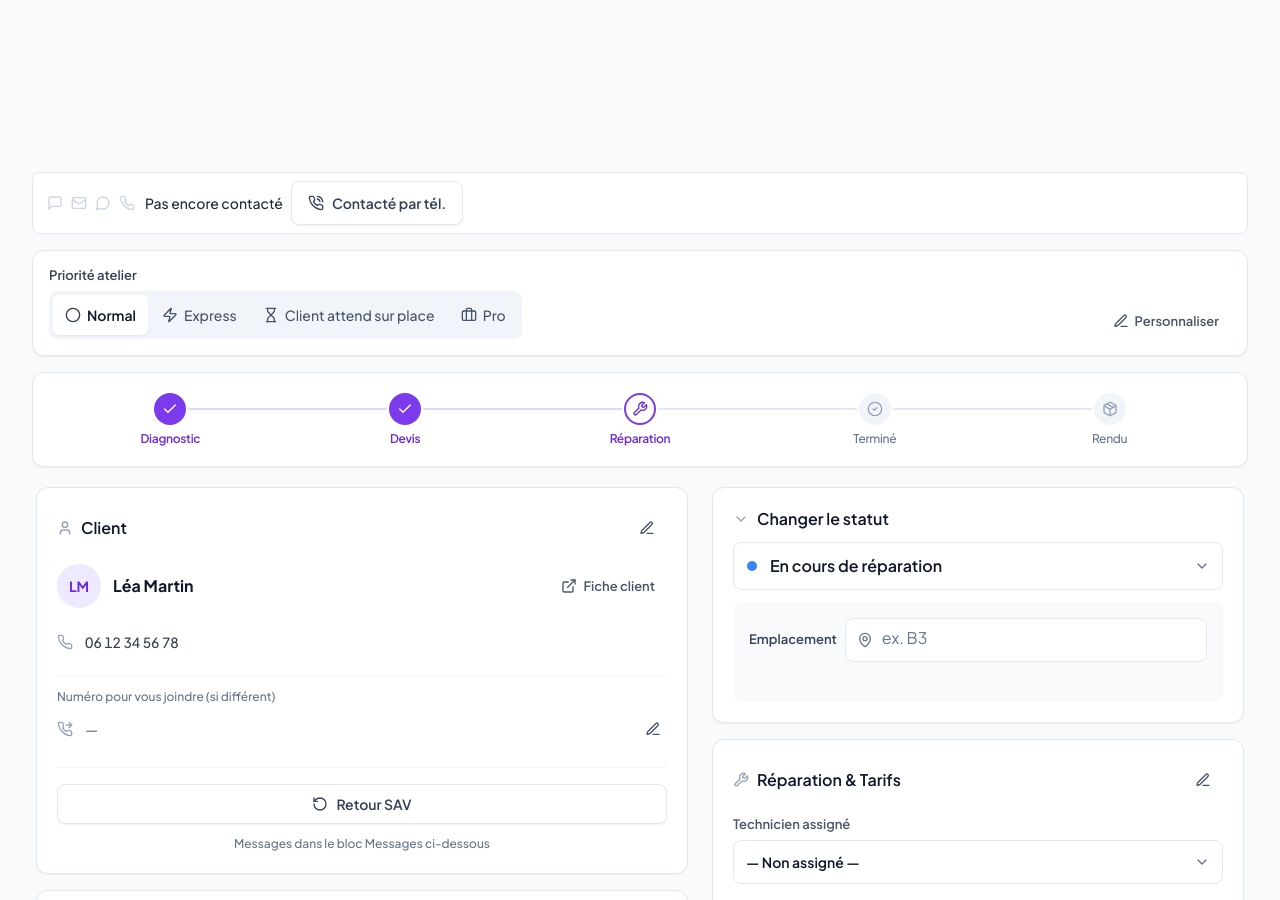
Scenario: Fiche : priorité atelier › choix enregistré en PATCH partiel { priorite } après un court délai, badge visible dans l’en-tête
Expected: the radio button labelled "Normal" is checked, [53,295,148,335]
Click the radio button labelled "Client attend sur place" at (349, 315), box [263,306,435,324]
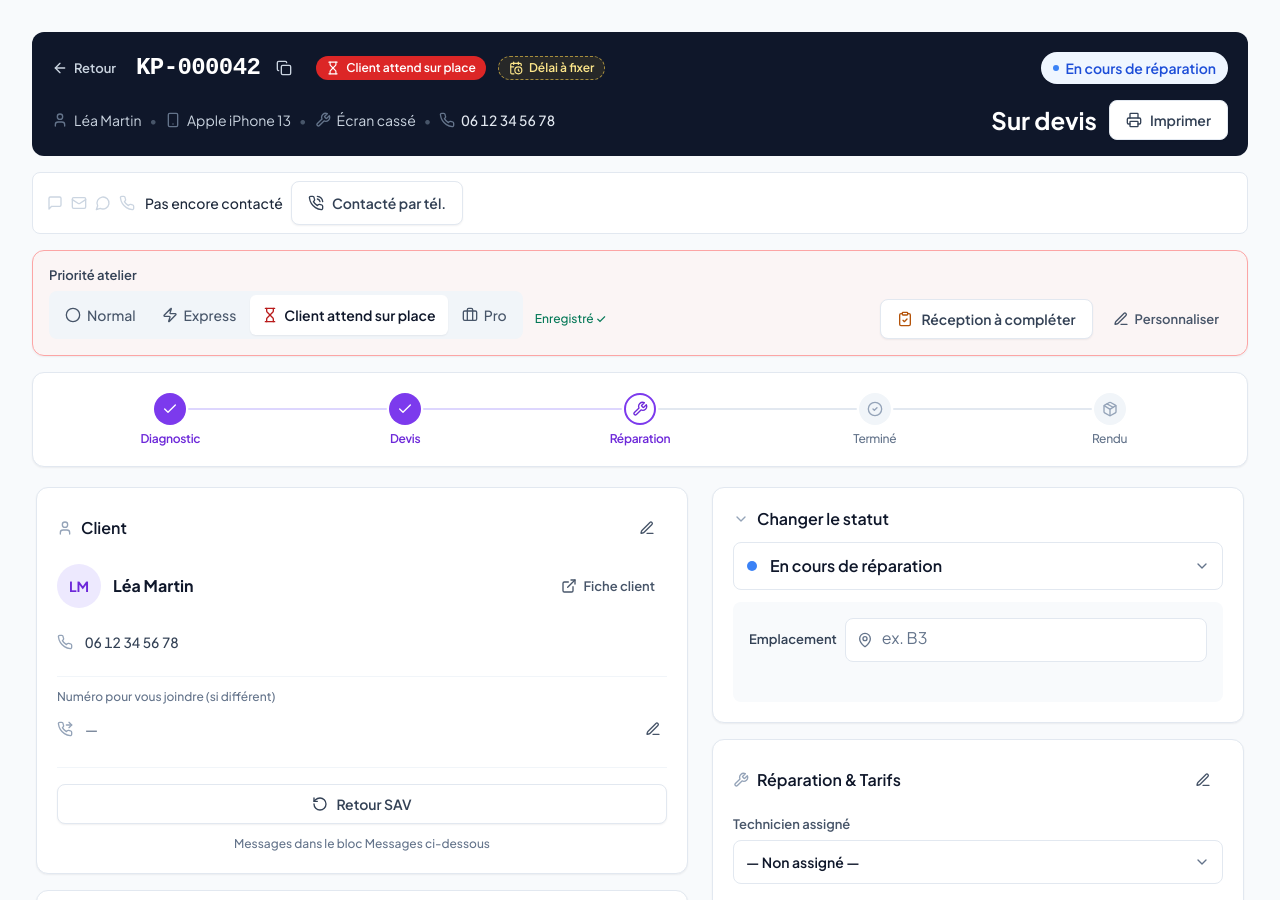
Expected: the radio button labelled "Client attend sur place" is checked, [250,295,448,335]
Expected: the text "Client attend sur place" next to "KP-000042" is shown, [346,60,476,75]
